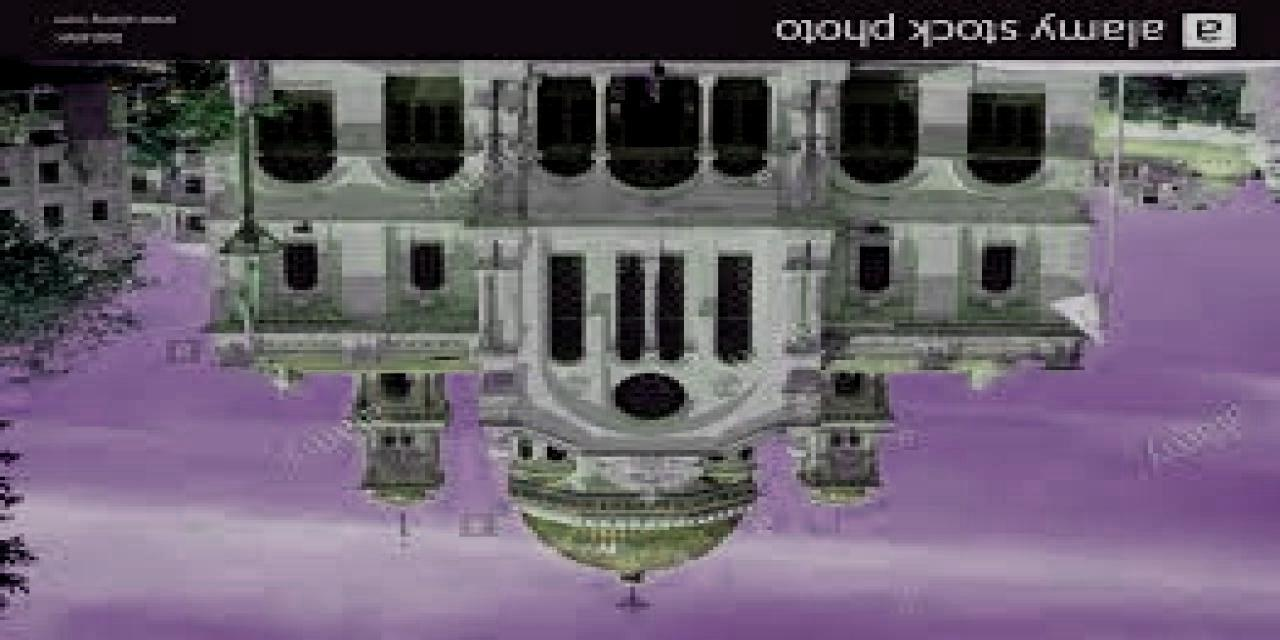Agios Minas: (199, 64, 1096, 620)
